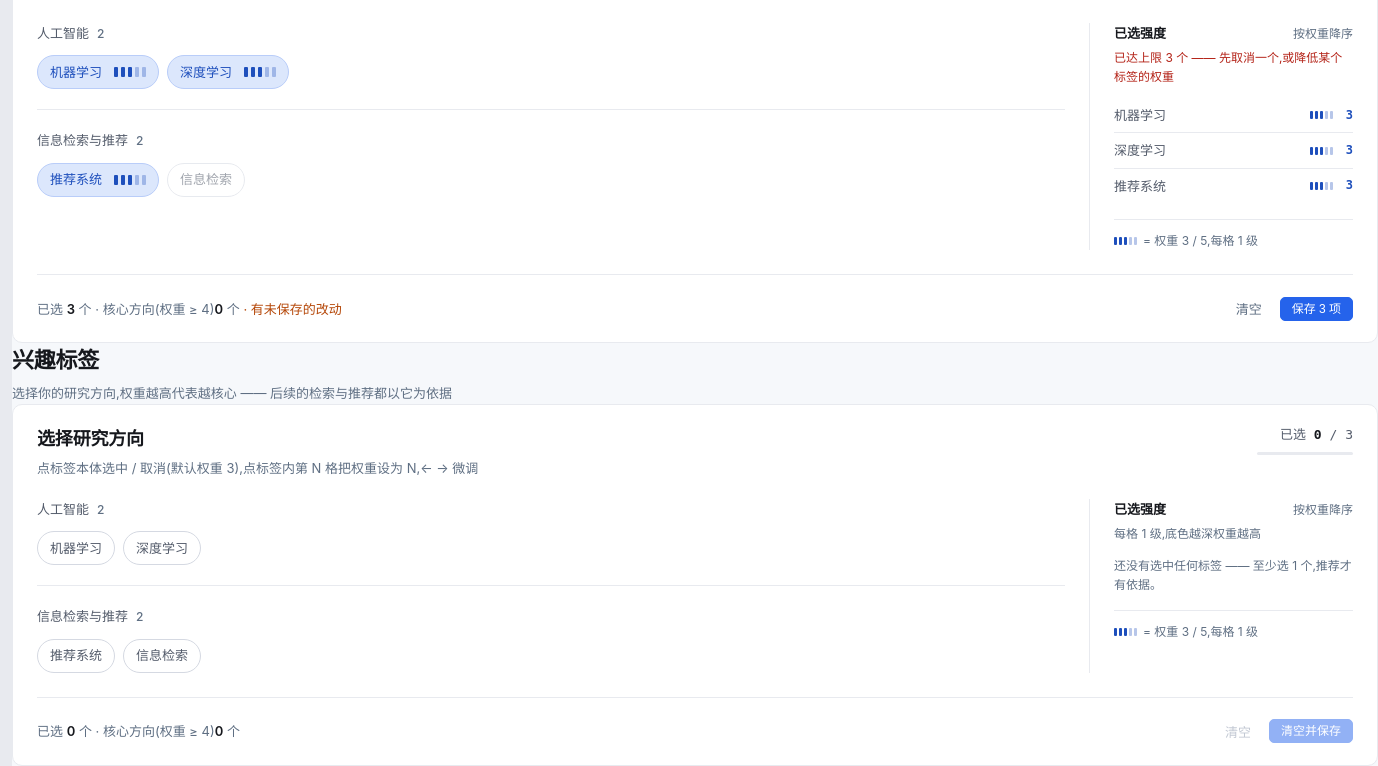
Test: InterestView › 没有改动时保存按钮不可用,改动后才可用
The width and height of the screenshot is (1378, 766).
(page scrolled)
expect the button "清空并保存" is disabled: met, box [1269,719,1353,743]
Click the 5th button with class "tag": (76, 548) [37,531,115,565]
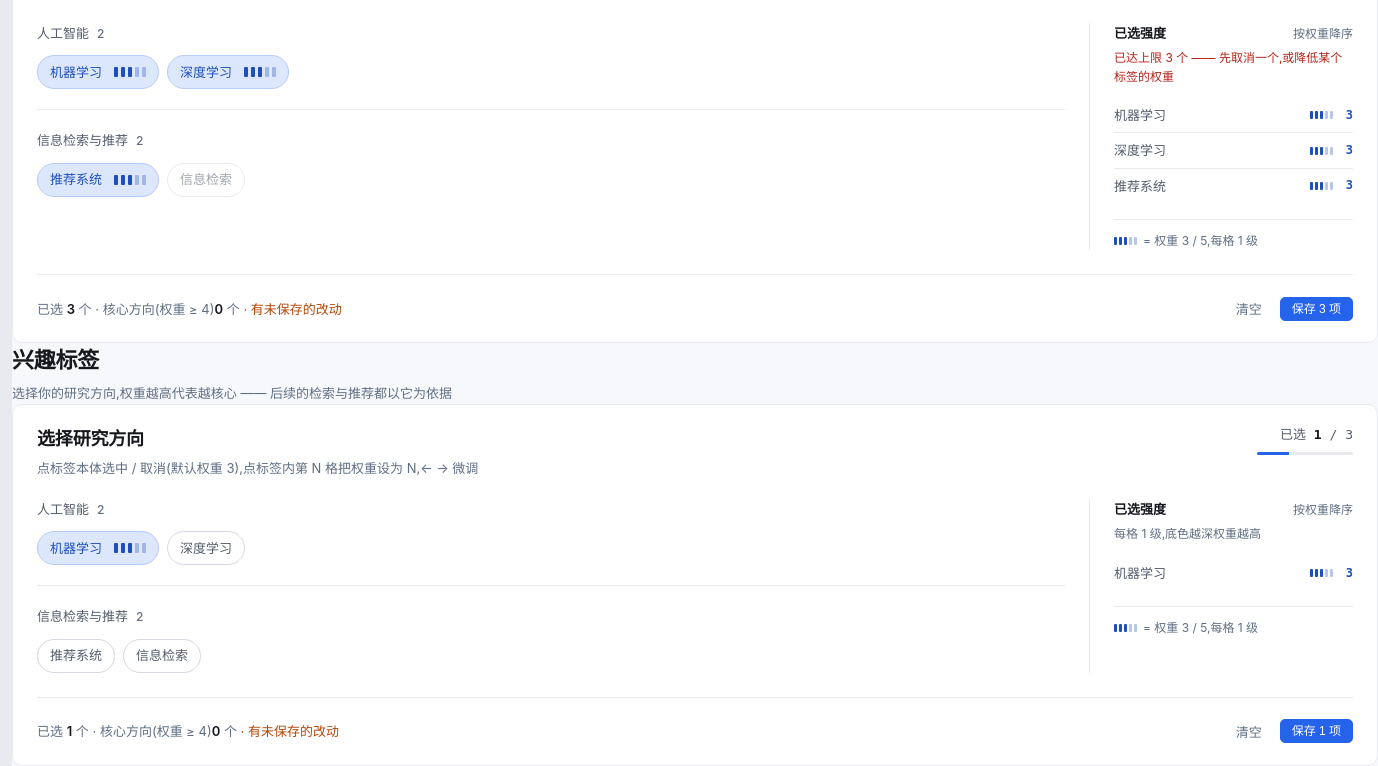
expect the button "保存 1 项" is enabled: met, box [1280,719,1353,743]
expect the button "保存 1 项" is shown: met, box [1280,719,1353,743]
